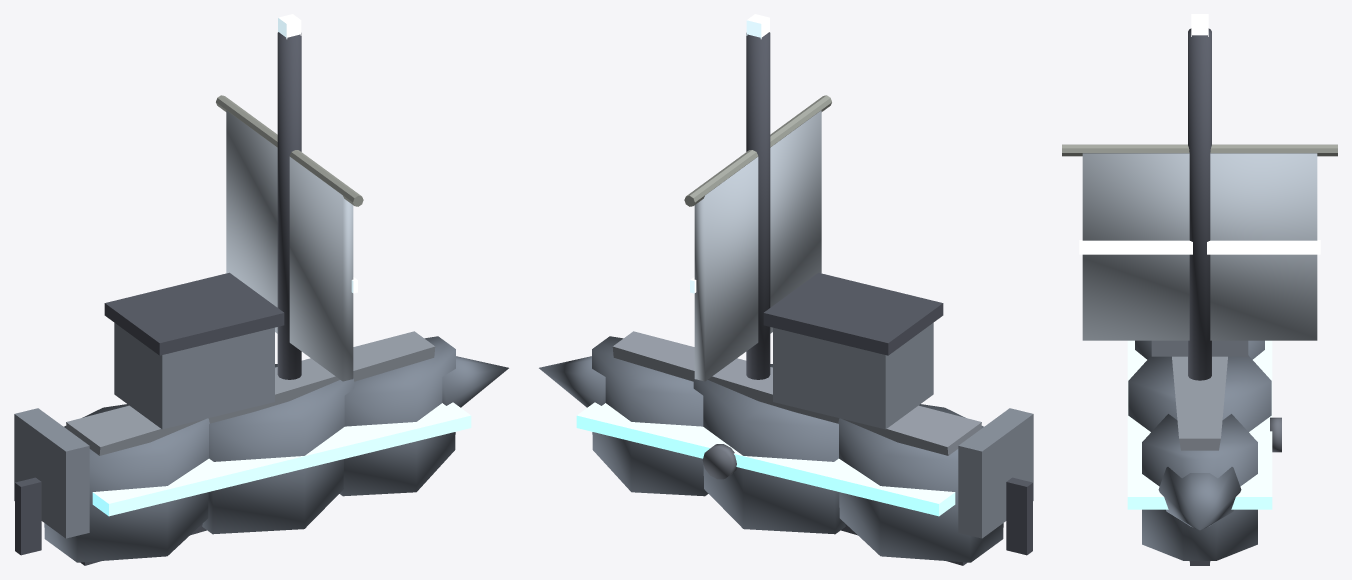
Rendered from Phantom_Sailboat.fbx.
3 views of the same model, side by side, from view 1: azimuth 30°, elevation 25°; view 2: azimuth 150°, elevation 25°; view 3: azimuth 270°, elevation 25° (orthographic).
Visible parts, largest first — view 1: Phantom_Sailboat; view 2: Phantom_Sailboat; view 3: Phantom_Sailboat.
Part boxes in pixels (x1,y1,x2,y2): Phantom_Sailboat: (14, 14, 508, 565); Phantom_Sailboat: (539, 14, 1033, 565); Phantom_Sailboat: (1062, 14, 1337, 565).
Bounding box in the file's own units: 1.65 × 1.57 × 0.8.
